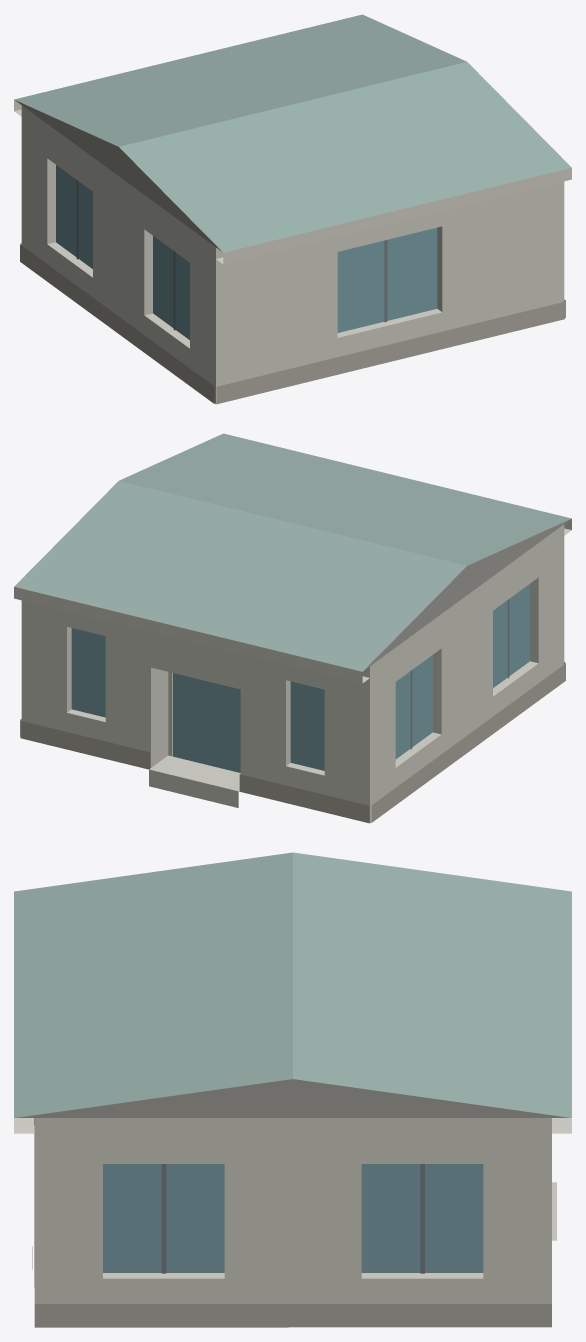
The picture shows the model from 3 angles, top to bottom: view 1: azimuth 30°, elevation 25°; view 2: azimuth 150°, elevation 25°; view 3: azimuth 270°, elevation 25°; orthographic projection. The views are drawn at different scales.
Visible parts, largest first — view 1: aux1370623062__roofAccent, aux1370623062__wall, aux1370623062__glass, aux1370623062__base, aux1370623062__trim, aux1370623062__wall2, aux1370623062__frame; view 2: aux1370623062__roofAccent, aux1370623062__wall, aux1370623062__glass, aux1370623062__base, aux1370623062__trim, aux1370623062__wall2, aux1370623062__entranceThreshold_0; view 3: aux1370623062__roofAccent, aux1370623062__wall, aux1370623062__glass, aux1370623062__base, aux1370623062__wall2, aux1370623062__frame, aux1370623062__soffit.
Part boxes in pixels (box(x1,y1,x2,y2)): aux1370623062__roofAccent: box(14, 14, 571, 252); aux1370623062__wall: box(21, 105, 564, 403); aux1370623062__glass: box(56, 165, 437, 339); aux1370623062__base: box(20, 243, 565, 404); aux1370623062__trim: box(14, 100, 571, 264); aux1370623062__wall2: box(15, 100, 221, 251); aux1370623062__frame: box(76, 180, 387, 330); aux1370623062__roofAccent: box(14, 433, 571, 671); aux1370623062__wall: box(21, 524, 564, 822); aux1370623062__glass: box(71, 584, 529, 772); aux1370623062__base: box(20, 662, 565, 823); aux1370623062__trim: box(14, 519, 571, 683); aux1370623062__wall2: box(364, 519, 570, 670); aux1370623062__entranceThreshold_0: box(149, 755, 240, 807); aux1370623062__roofAccent: box(14, 852, 571, 1117); aux1370623062__wall: box(34, 1118, 551, 1303); aux1370623062__glass: box(103, 1164, 483, 1272); aux1370623062__base: box(32, 1246, 551, 1327); aux1370623062__wall2: box(16, 1079, 569, 1117); aux1370623062__frame: box(161, 1164, 424, 1273); aux1370623062__soffit: box(14, 1118, 571, 1133).
Size of the model in its own units: 9.41 by 5.15 by 9.71.
